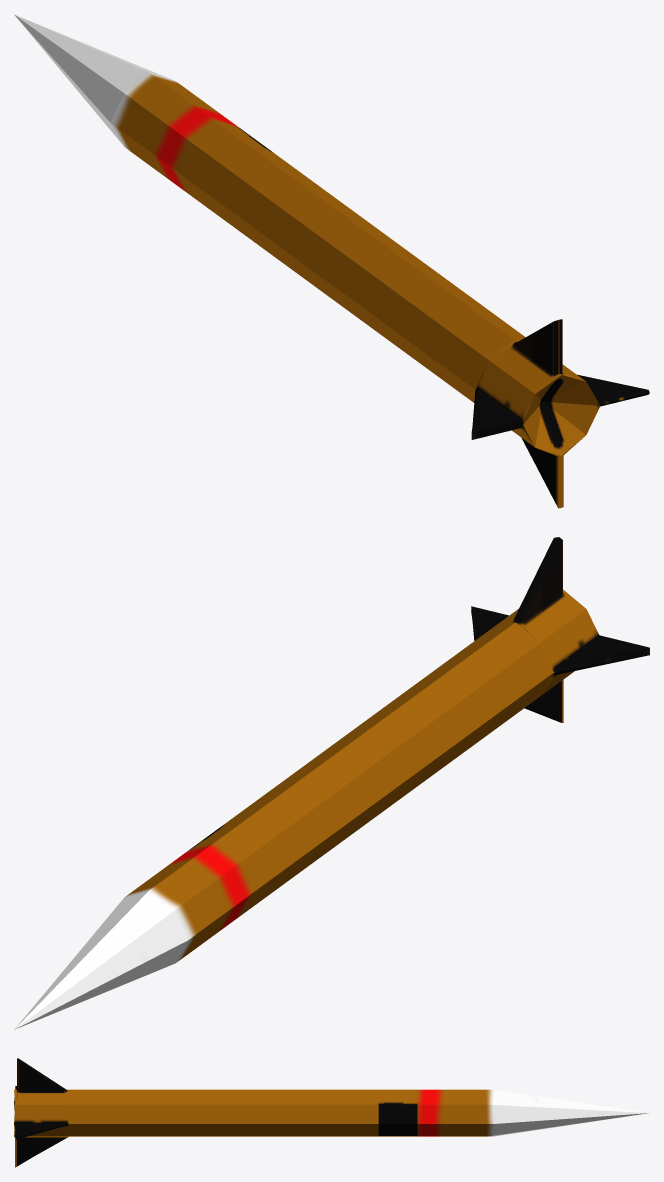
Rendered from Rocket.fbx.
3 views of the same model, one above another, from view 1: azimuth 30°, elevation 25°; view 2: azimuth 150°, elevation 25°; view 3: azimuth 270°, elevation 25° (orthographic). The views are drawn at different scales.
Parts seen in each view (by area): view 1: Würfel; view 2: Würfel; view 3: Würfel.
Part boxes in pixels (box(x1,y1,x2,y2)): Würfel: box(14, 14, 649, 508); Würfel: box(14, 537, 649, 1029); Würfel: box(14, 1058, 649, 1167).
Bounding box in the file's own units: 461 × 462 × 2451.
Materials: 1 (1 with a texture image).
